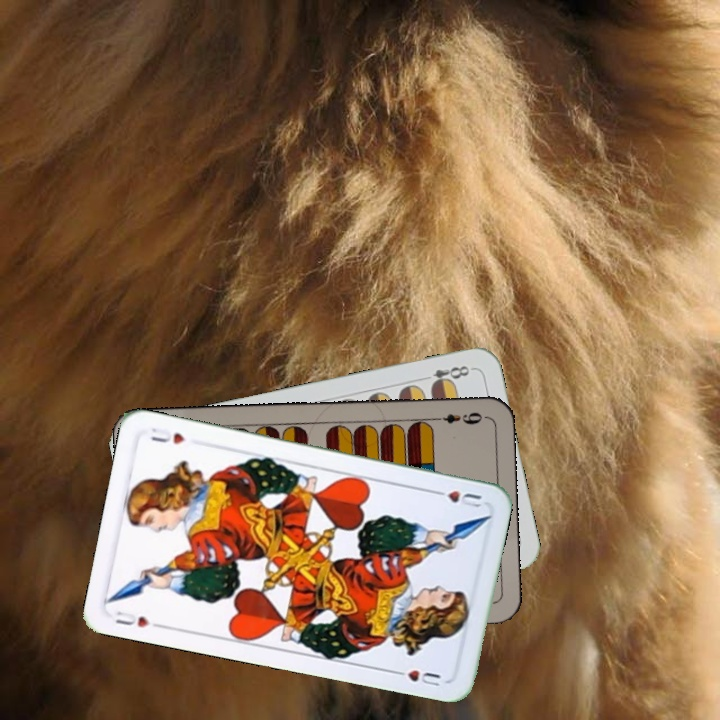E8: (416, 361, 475, 390)
E9: (428, 408, 487, 427)
HU: (428, 485, 484, 510), (111, 607, 152, 630)
